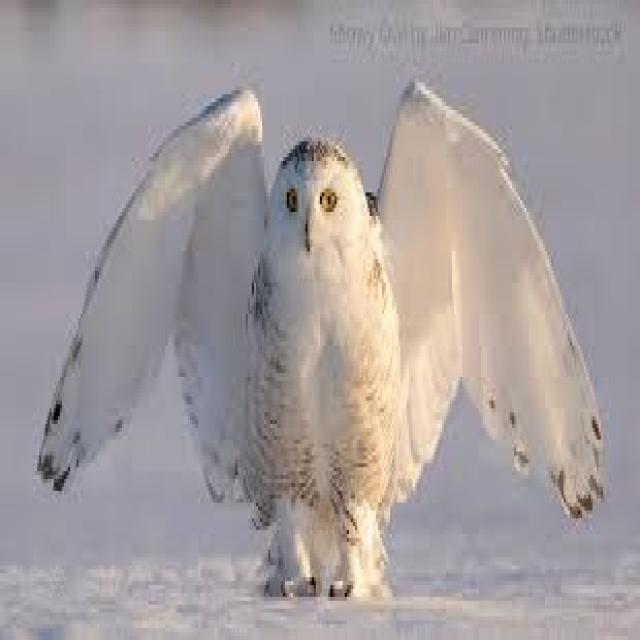snowy owl: (24, 48, 618, 609)
